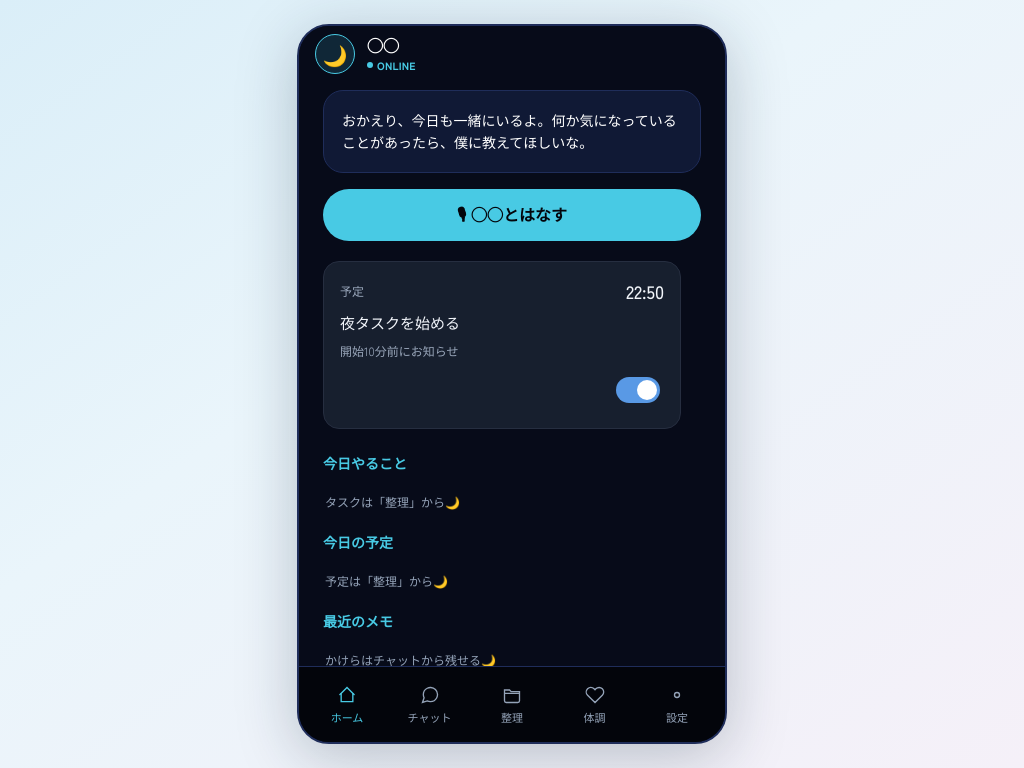
v2.1ホームのアラームカード › ON/OFFを切り替えると保存され、開き直しても保持される
Click the checkbox at coordinates (638, 390), box [616, 377, 660, 403]
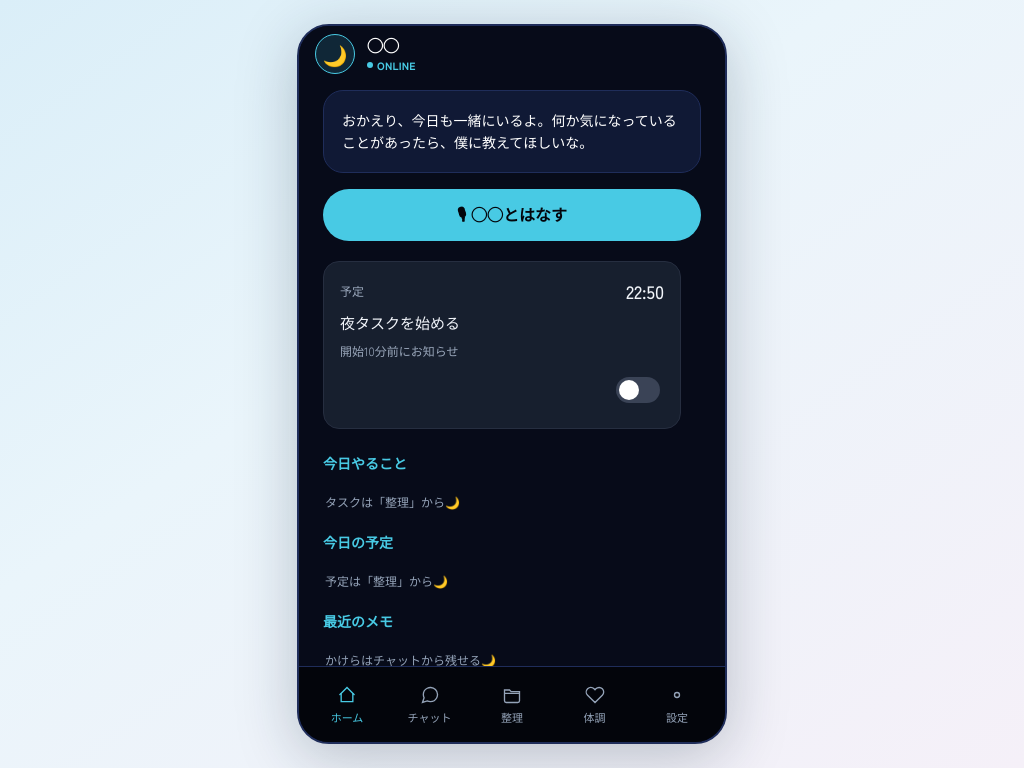
Expected: the checkbox is not checked, [616, 377, 660, 403]
